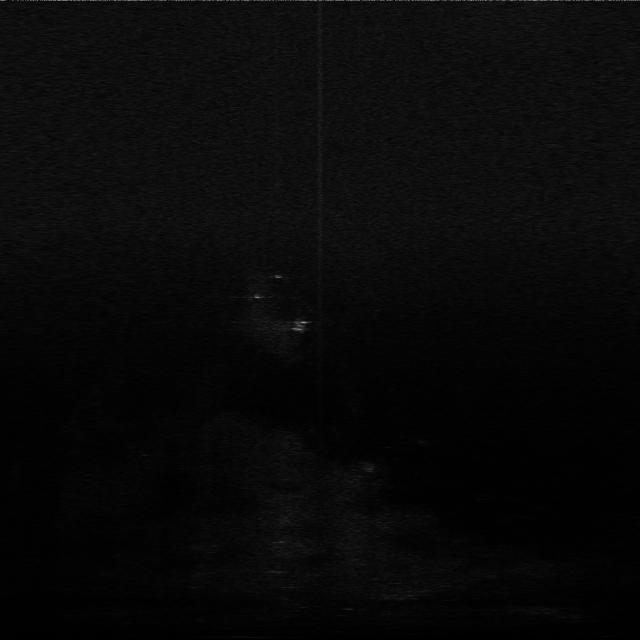rov: (287, 317, 313, 336)
